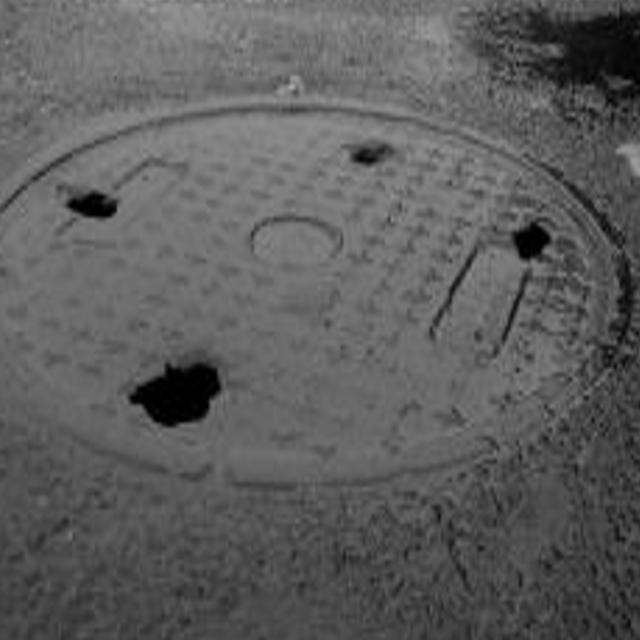broke: (0, 130, 640, 463)
